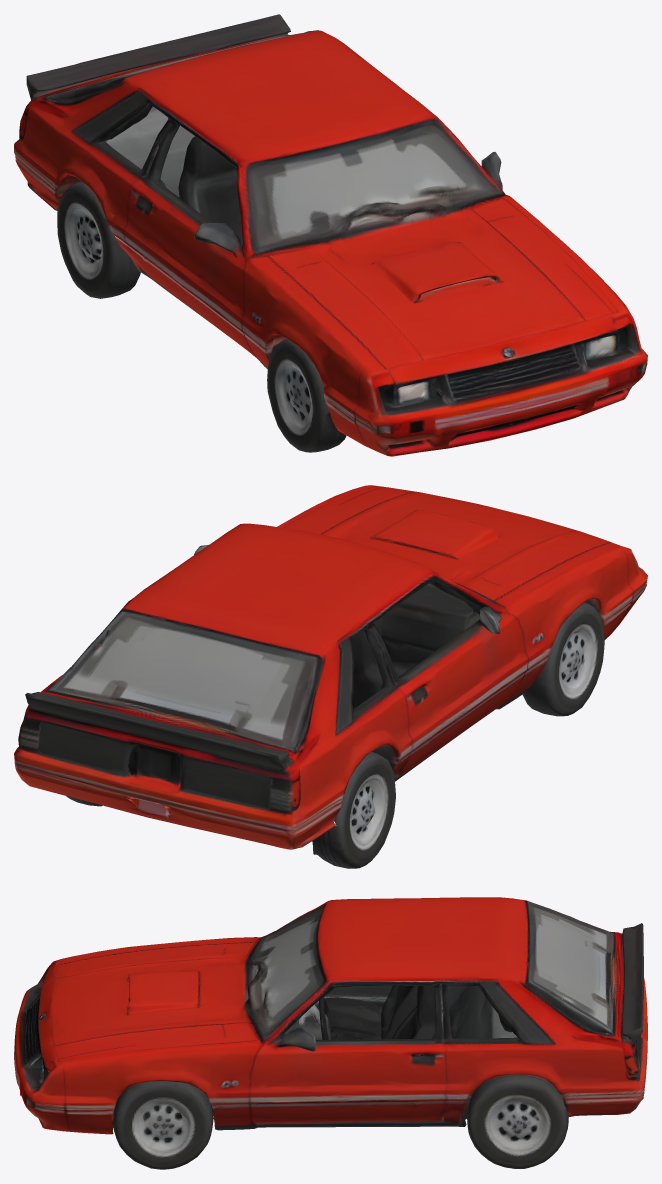
Rendered from model_pbr.glb.
3 views of the same model, one above another, from view 1: azimuth 30°, elevation 25°; view 2: azimuth 150°, elevation 25°; view 3: azimuth 270°, elevation 25° (orthographic). The views are drawn at different scales.
Parts seen in each view (by area): view 1: tripo_node_5b2e7e6c-250b-4b17-9eff-e9fc3ccb7df2; view 2: tripo_node_5b2e7e6c-250b-4b17-9eff-e9fc3ccb7df2; view 3: tripo_node_5b2e7e6c-250b-4b17-9eff-e9fc3ccb7df2.
Boxes of the visible parts, <box> form: tripo_node_5b2e7e6c-250b-4b17-9eff-e9fc3ccb7df2: <box>14,14,647,456</box>; tripo_node_5b2e7e6c-250b-4b17-9eff-e9fc3ccb7df2: <box>14,485,647,868</box>; tripo_node_5b2e7e6c-250b-4b17-9eff-e9fc3ccb7df2: <box>14,897,647,1169</box>.
Bounding box in the file's own units: 0.4728 × 0.3132 × 1.
Materials: 1 (1 with a texture image).
